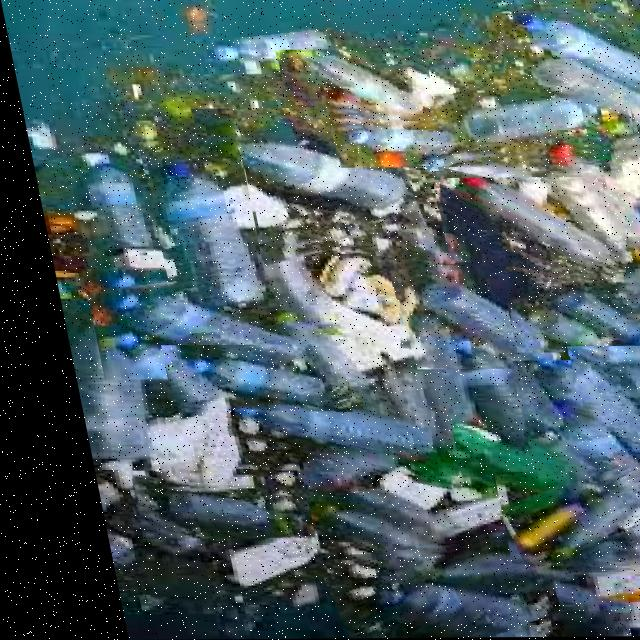plasticbottle: (186, 108, 416, 262), (70, 267, 307, 380), (183, 379, 441, 479), (296, 536, 537, 639), (130, 134, 260, 321), (373, 252, 564, 370), (423, 178, 623, 282), (491, 13, 640, 141), (50, 312, 162, 472), (493, 361, 640, 481), (473, 472, 640, 574), (402, 96, 634, 168), (313, 81, 475, 168), (146, 344, 335, 413), (488, 271, 640, 353), (272, 50, 432, 123), (107, 480, 292, 539), (183, 17, 340, 75), (550, 346, 640, 421)
